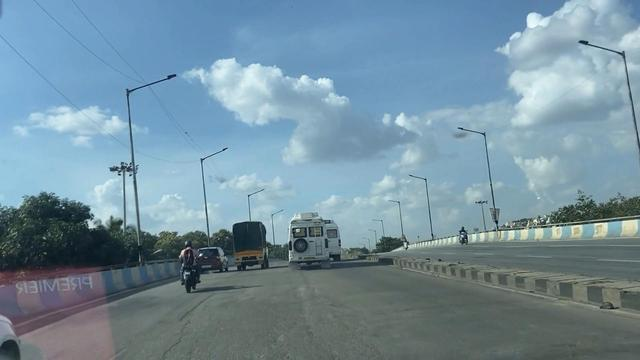HMV: (281, 215, 331, 272), (233, 219, 273, 274)
LMV: (171, 230, 202, 292), (200, 246, 229, 274)
RoadDamages: (143, 290, 351, 357)
